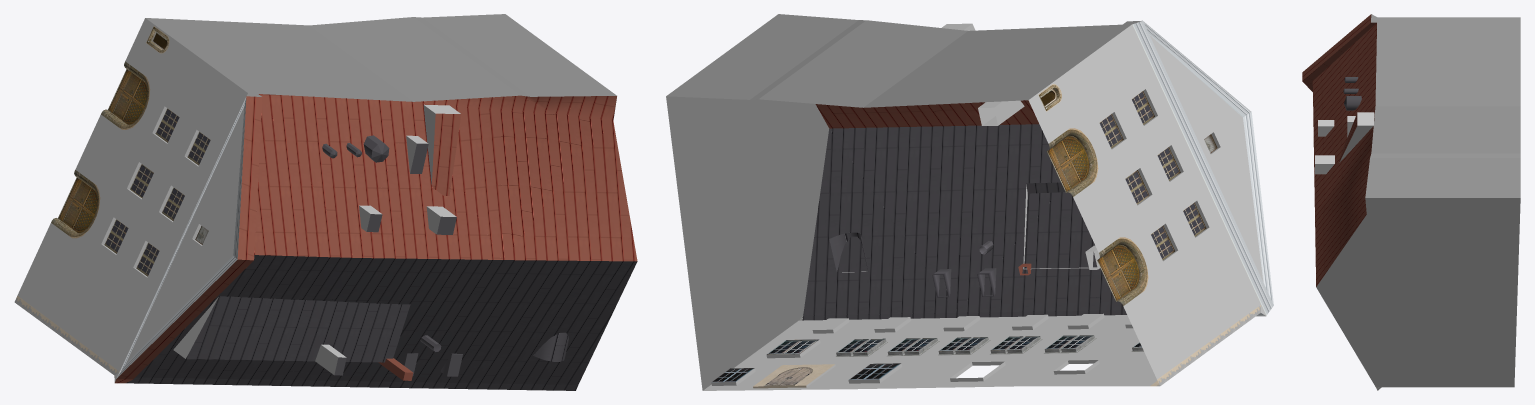
File: Vene_14.obj
The picture shows the model from 3 angles, left to right: view 1: azimuth 30°, elevation 25°; view 2: azimuth 150°, elevation 25°; view 3: azimuth 270°, elevation 25°; orthographic projection. The views are drawn at different scales.
Parts seen in each view (by area): view 1: Vene_14; view 2: Vene_14; view 3: Vene_14.
Part boxes in pixels (left/top/right/bottom): Vene_14: left=14, top=14, right=637, bottom=390; Vene_14: left=666, top=14, right=1273, bottom=390; Vene_14: left=1302, top=14, right=1520, bottom=390.
Size of the model in its own units: 29.42 by 21.48 by 16.13.
